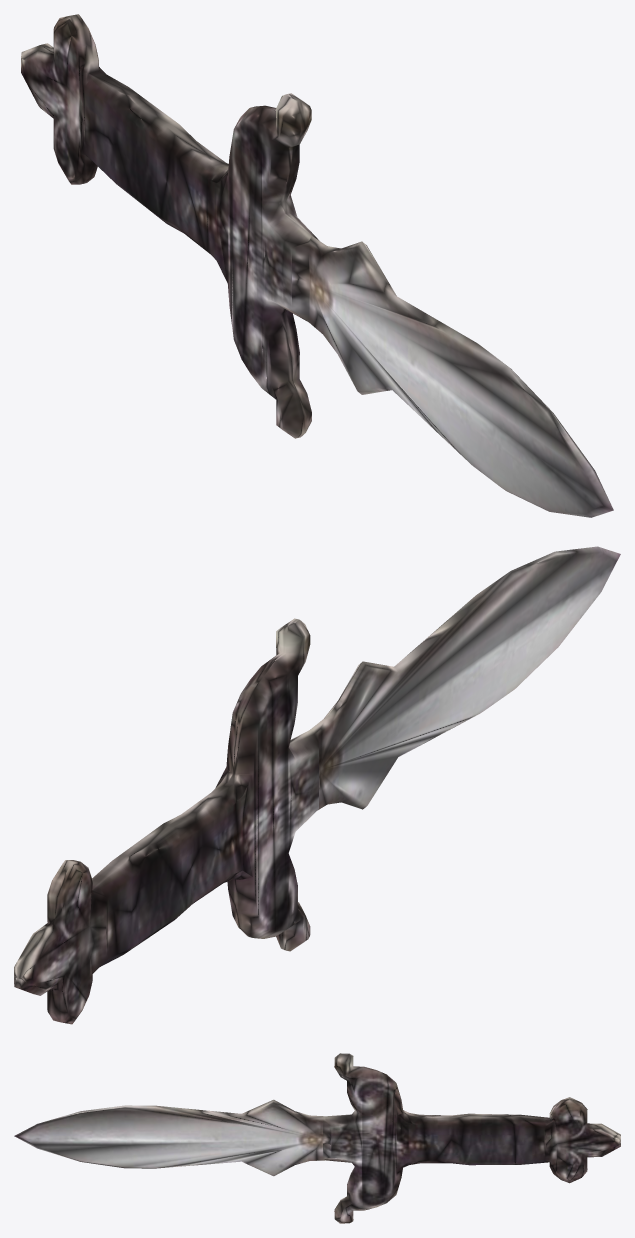
File: model_align.obj
3 renders of one model, top to bottom at view 1: azimuth 30°, elevation 25°; view 2: azimuth 150°, elevation 25°; view 3: azimuth 270°, elevation 25°, orthographic. The views are drawn at different scales.
Size of the model in its own units: 0.00691 by 0.0634 by 0.2069.
1 material, 1 textured.
